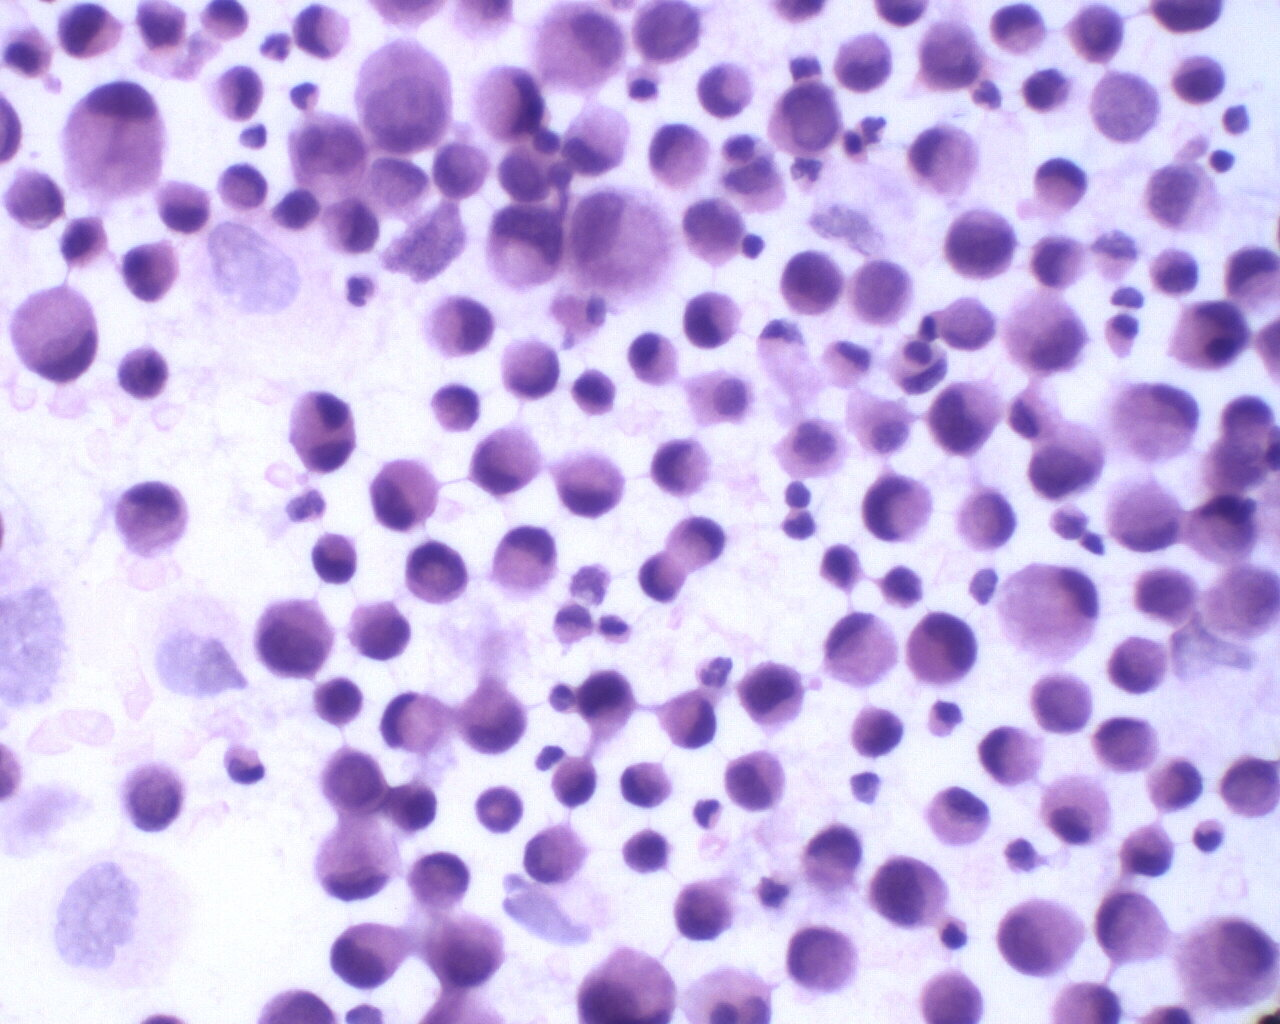ab: (350, 34, 456, 158), (861, 850, 955, 931), (254, 590, 334, 683), (1024, 416, 1111, 501), (761, 77, 850, 160), (944, 202, 1025, 285), (930, 373, 1008, 457), (844, 254, 920, 332), (786, 920, 861, 998), (775, 249, 846, 328), (117, 757, 187, 837), (738, 661, 813, 734), (401, 537, 475, 609), (670, 875, 742, 947), (344, 596, 419, 665), (1028, 665, 1098, 738), (316, 745, 391, 813), (628, 1, 704, 66), (1133, 564, 1204, 629), (428, 138, 493, 206), (1217, 753, 1280, 821), (55, 4, 126, 62), (1066, 1, 1128, 61), (1168, 54, 1228, 108)
histo: (54, 79, 173, 202), (998, 558, 1099, 662), (3, 280, 104, 385), (304, 810, 405, 904), (1109, 374, 1201, 465), (898, 119, 990, 201), (820, 607, 906, 691), (1102, 474, 1190, 554)
lymph: (1206, 145, 1239, 182)
meso: (1176, 906, 1280, 1017), (996, 889, 1087, 978), (1038, 771, 1114, 850), (686, 369, 761, 434), (627, 327, 686, 391)
neutro: (695, 650, 739, 695), (256, 28, 297, 65), (689, 793, 725, 830)
